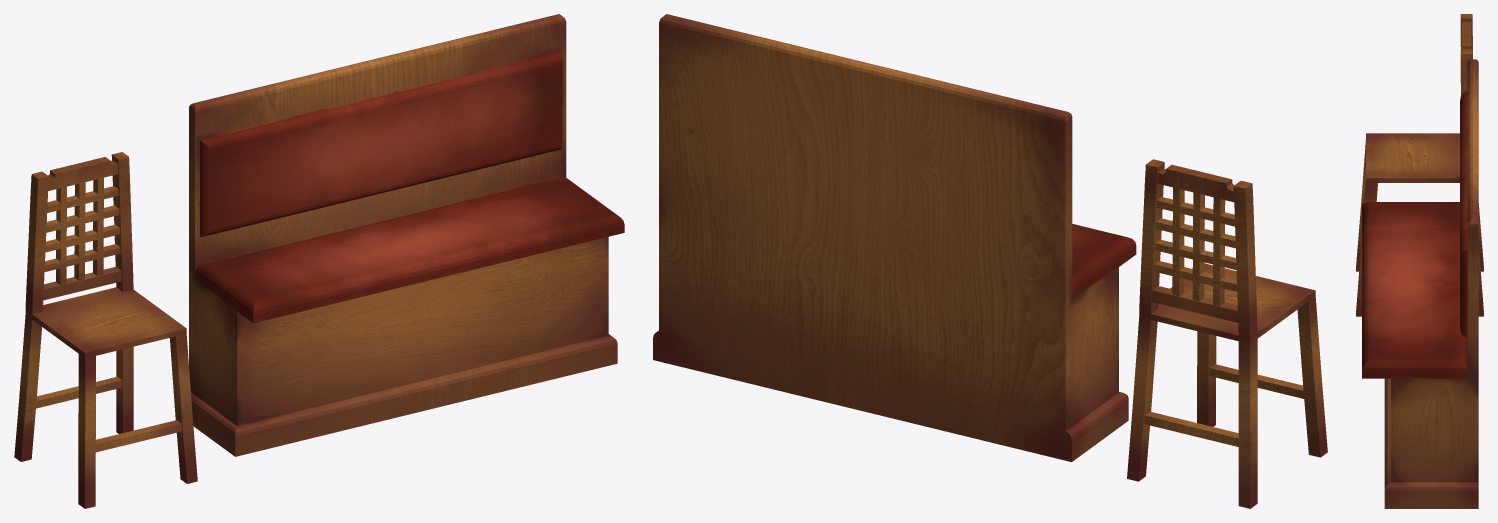
File: ENV_Asientos.fbx
3 views of the same model, side by side, from view 1: azimuth 30°, elevation 25°; view 2: azimuth 150°, elevation 25°; view 3: azimuth 270°, elevation 25° (orthographic). The views are drawn at different scales.
Visible parts, largest first — view 1: m_Sillón, m_Silla; view 2: m_Sillón, m_Silla; view 3: m_Sillón, m_Silla.
Part boxes in pixels (<box>): m_Sillón: <box>189,14,624,456</box>; m_Silla: <box>14,152,197,508</box>; m_Sillón: <box>653,14,1136,461</box>; m_Silla: <box>1127,159,1327,508</box>; m_Sillón: <box>1362,59,1478,508</box>; m_Silla: <box>1356,14,1483,316</box>.
Bounding box in the file's own units: 552 × 303 × 123.
1 material, 1 textured.
